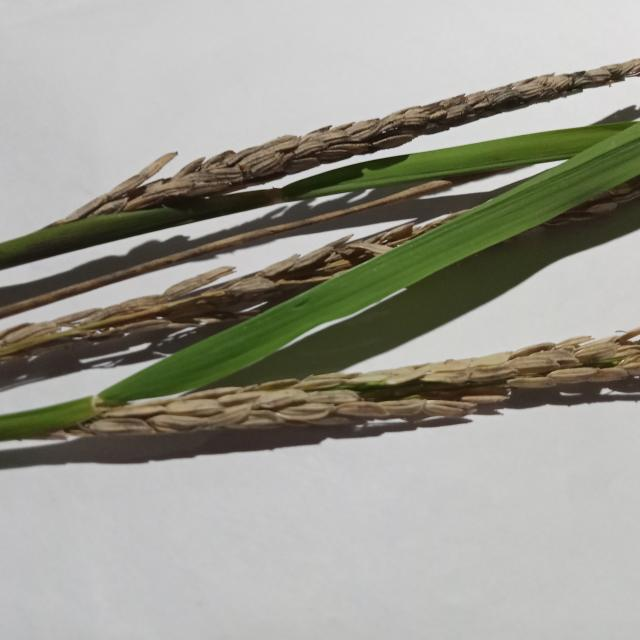Neck_Blast: (0, 326, 640, 438), (115, 64, 628, 203), (5, 215, 472, 357)
